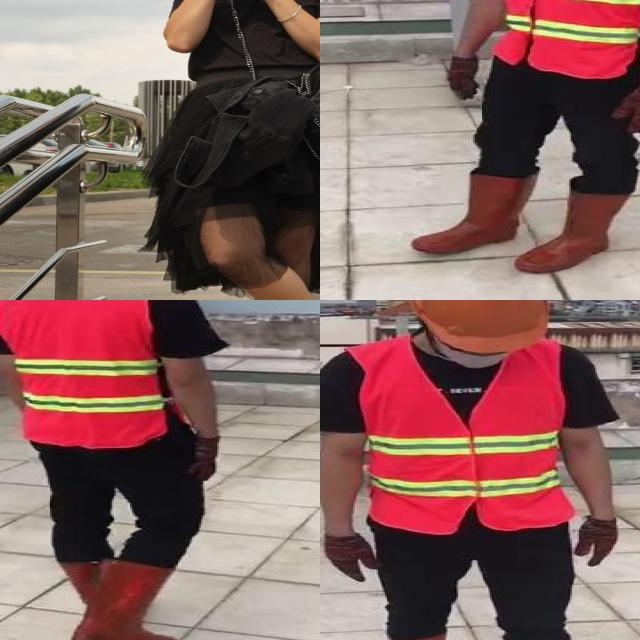boots: (413, 172, 535, 253), (516, 191, 628, 274), (66, 560, 180, 640)
hand_glove: (320, 535, 380, 582), (574, 515, 620, 568), (187, 435, 219, 485), (610, 86, 640, 136), (445, 57, 473, 99)
head_helmet: (403, 300, 557, 353)
person: (320, 300, 640, 640), (0, 300, 230, 640), (400, 0, 640, 277)
vest: (350, 339, 572, 533), (0, 300, 178, 449), (491, 0, 640, 77)
